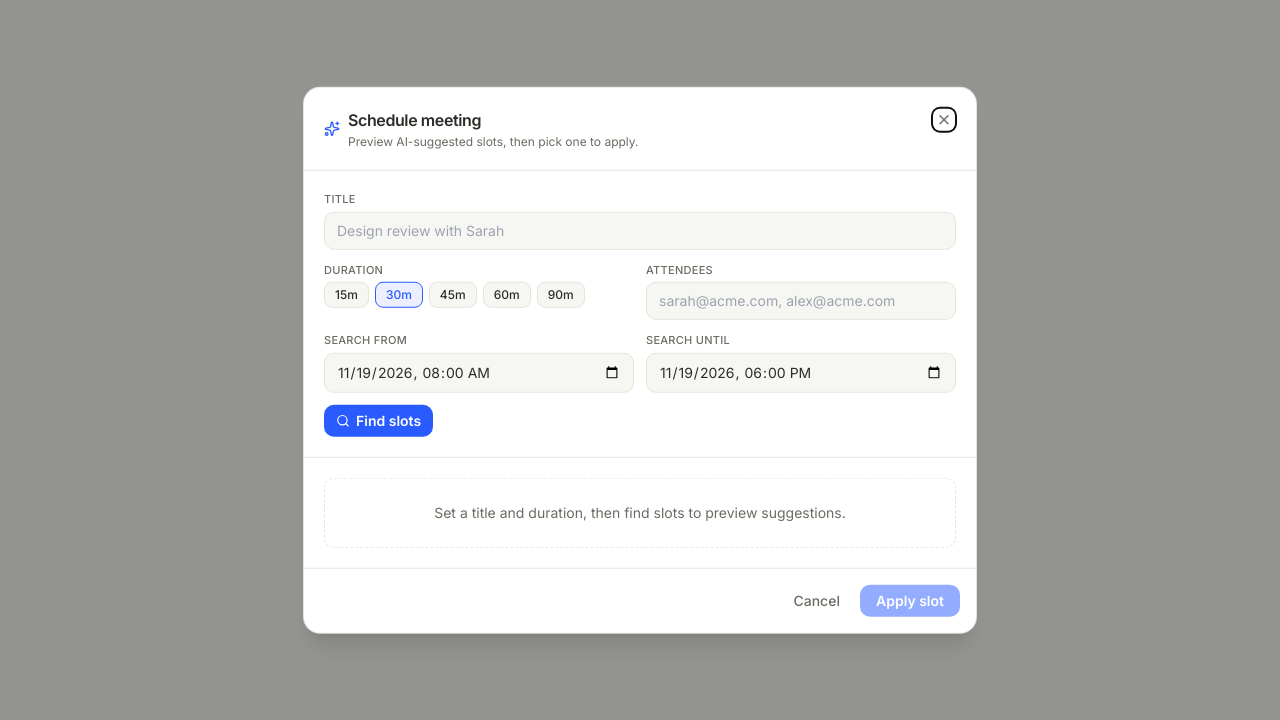
Test: PAC-133 AC-27: unknown attendees in the Suggest a time modal › an empty list shows nothing extra
In the field labelled "Title": (640, 230) top-left (324, 211), bottom-right (956, 249), type "Sync"
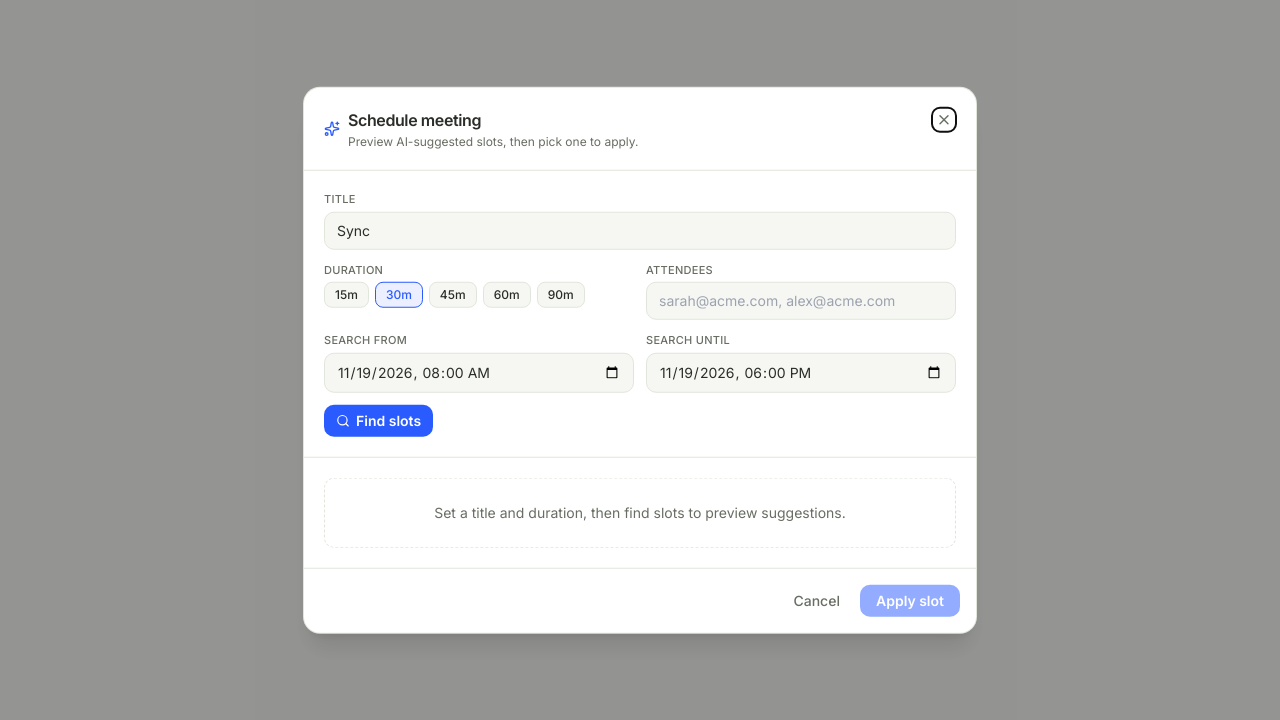
In the field labelled "Attendees": (801, 301) top-left (646, 282), bottom-right (956, 320), type "bo@co.com, eve@gmail.com"
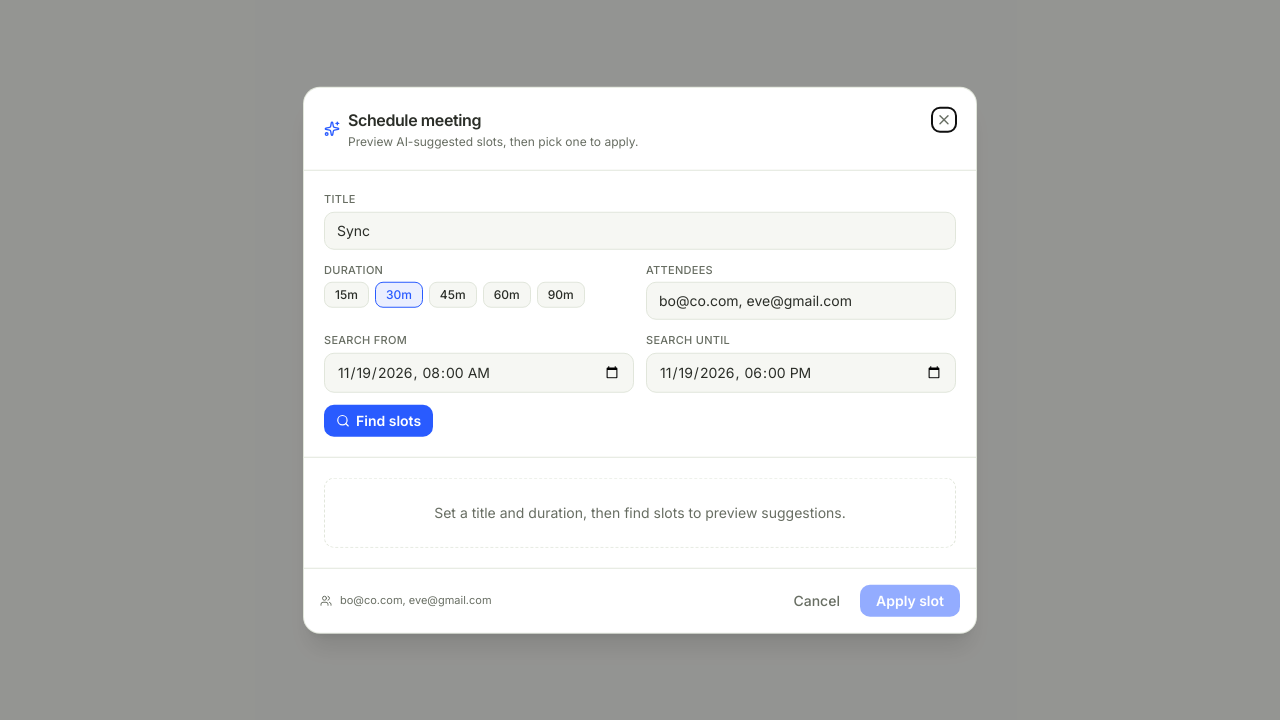
Click the button "Find slots": click(379, 420) top-left (324, 404), bottom-right (433, 436)
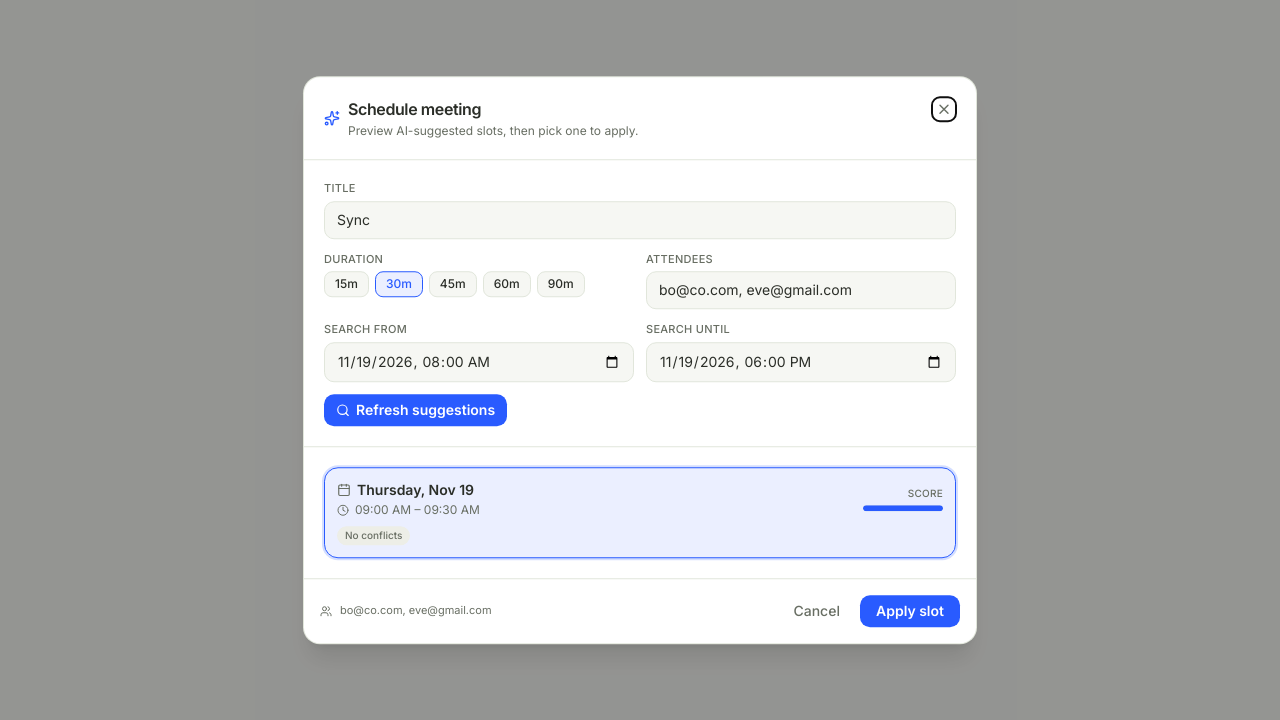
Expected: the button "Refresh suggestions" is shown, top-left (324, 394), bottom-right (507, 426)
